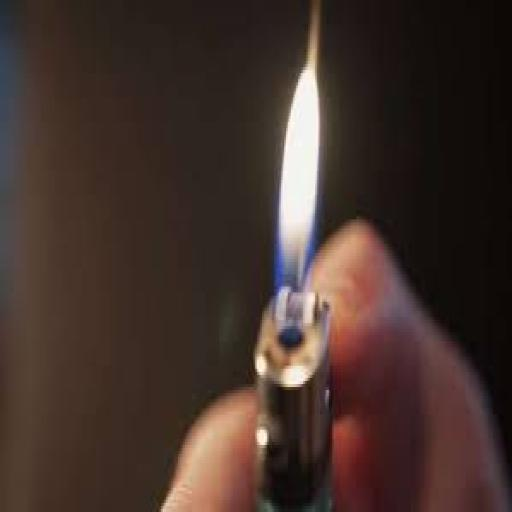fire: (272, 0, 320, 320)
